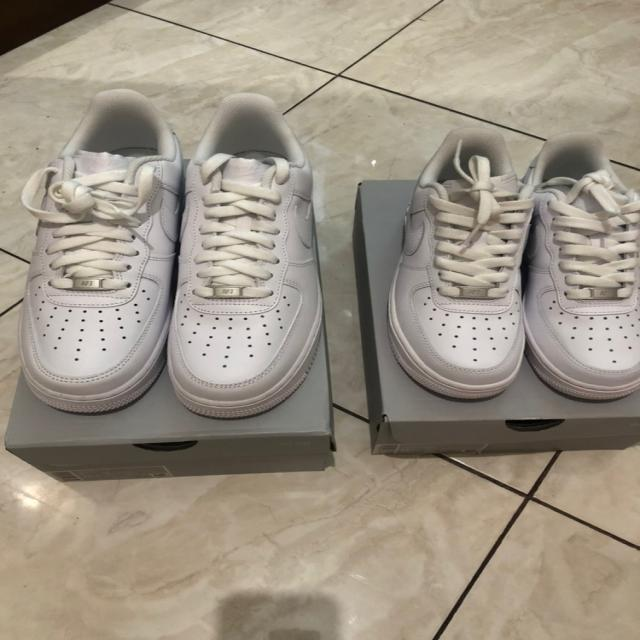nike original air force: (11, 88, 194, 413), (162, 83, 331, 426), (382, 120, 532, 398), (518, 128, 640, 405)
